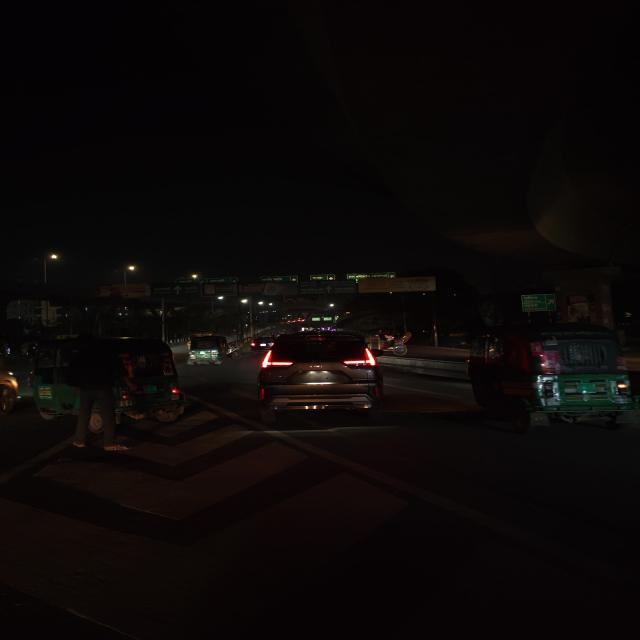car: (252, 331, 388, 419), (248, 333, 276, 349)
cng: (495, 329, 638, 434), (21, 338, 188, 426), (184, 334, 231, 368)
motorcycle: (375, 332, 413, 357)
